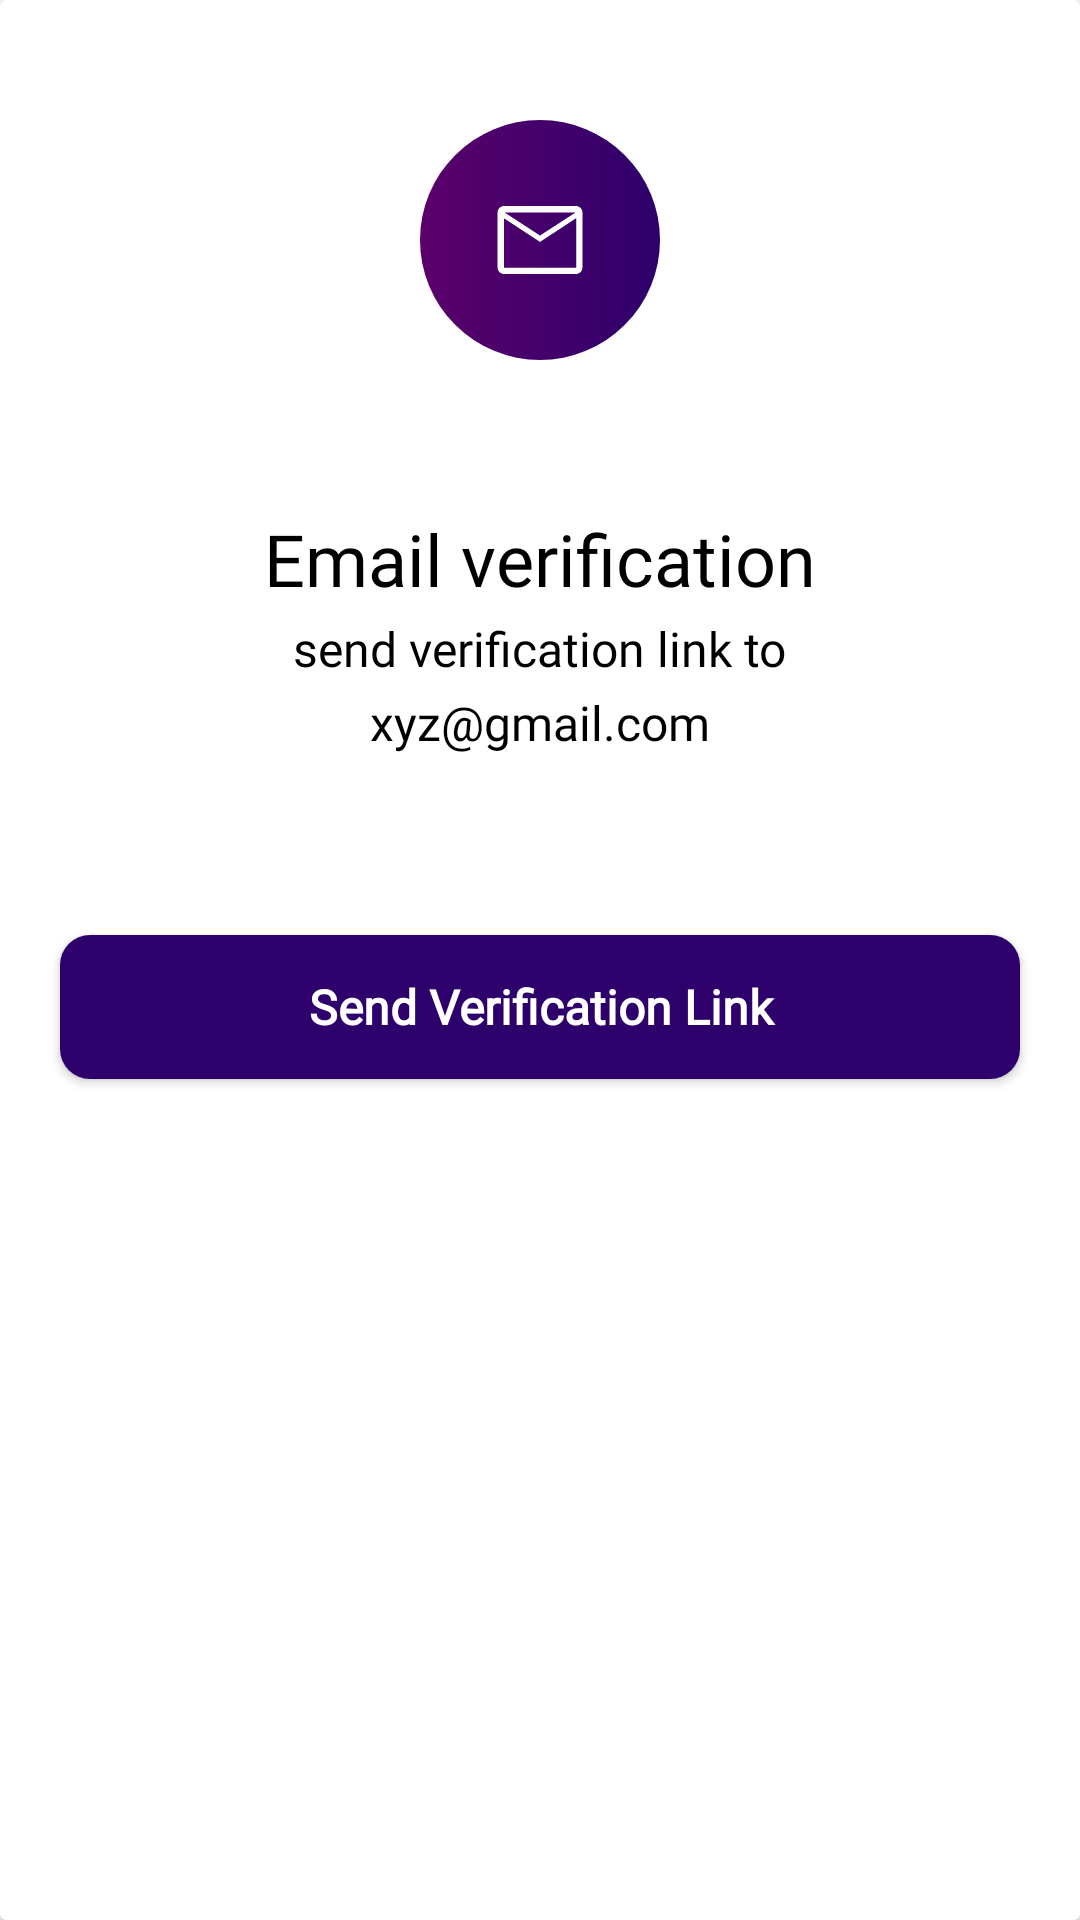

Icon bounding boxes for this 1080 × 1920 phone screenshot, format bbox=(x1, y1, x2, y2):
mail: bbox=(497, 206, 583, 274)
